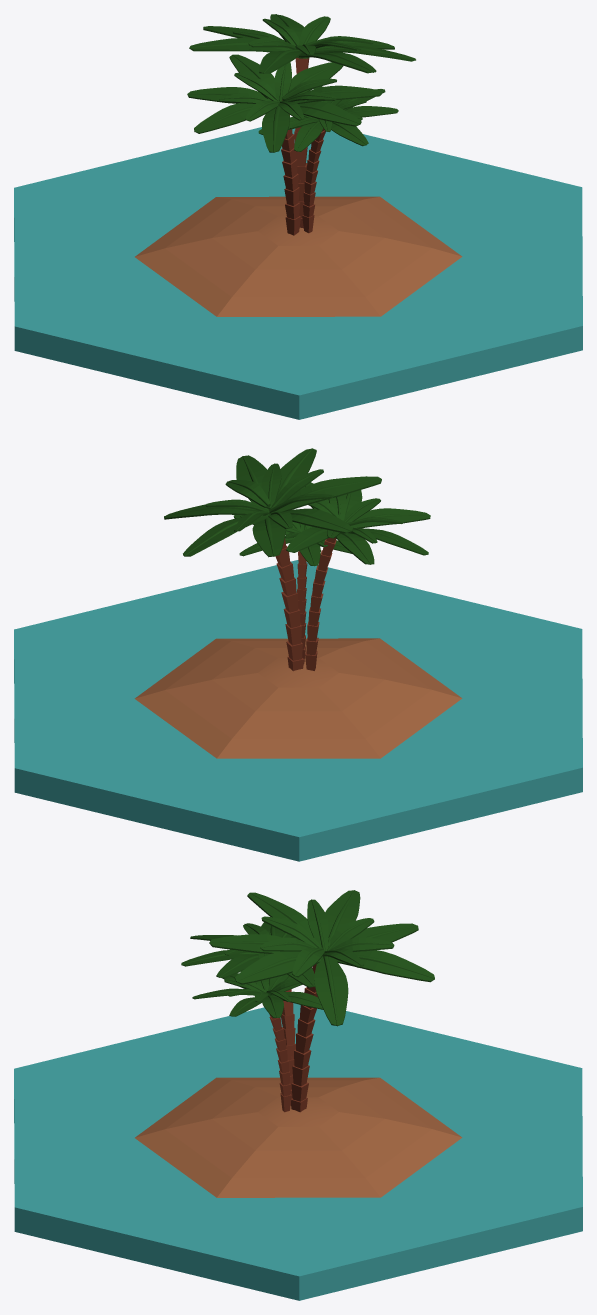
The model's file is Planet_Island_Hexagon.fbx.
The picture shows the model from 3 angles, top to bottom: view 1: azimuth 30°, elevation 25°; view 2: azimuth 150°, elevation 25°; view 3: azimuth 270°, elevation 25°; orthographic projection.
Visible parts, largest first — view 1: polySurface7, pCube85, pCube88, pCube69, pCube89, pCube96, pCube90, pCube70, pCube87, pCube86, pCube97, pCube52 (+2 smaller); view 2: polySurface7, pCube97, pCube69, pCube73, pCube95, pCube85, pCube70, pCube71, pCube52, pCube87, pCube53, pCube86 (+3 smaller); view 3: polySurface7, pCube71, pCube95, pCube52, pCube69, pCube70, pCube97, pCube72, pCube73, pCube60, pCube75, pCube57 (+3 smaller).
Part boxes in pixels (left/top/right/bottom): polySurface7: left=14, top=127, right=582, bottom=419; pCube85: left=262, top=102, right=289, bottom=152; pCube88: left=194, top=103, right=254, bottom=133; pCube69: left=189, top=38, right=292, bottom=52; pCube89: left=298, top=101, right=361, bottom=126; pCube96: left=293, top=85, right=382, bottom=103; pCube90: left=288, top=62, right=343, bottom=94; pCube70: left=299, top=52, right=376, bottom=73; pCube87: left=187, top=87, right=265, bottom=103; pCube86: left=229, top=54, right=275, bottom=99; pCube97: left=259, top=49, right=303, bottom=73; pCube52: left=315, top=45, right=415, bottom=61; polySurface7: left=14, top=560, right=582, bottom=861; pCube97: left=269, top=476, right=381, bottom=511; pCube69: left=270, top=508, right=353, bottom=533; pCube73: left=252, top=517, right=285, bottom=557; pCube95: left=183, top=514, right=270, bottom=556; pCube85: left=351, top=508, right=430, bottom=528; pCube70: left=277, top=448, right=316, bottom=495; pCube71: left=164, top=504, right=259, bottom=519; pCube52: left=236, top=455, right=267, bottom=506; pCube87: left=335, top=533, right=374, bottom=564; pCube53: left=225, top=479, right=270, bottom=508; pCube86: left=286, top=527, right=328, bottom=552; polySurface7: left=14, top=1003, right=582, bottom=1300; pCube71: left=314, top=956, right=348, bottom=1026; pCube95: left=335, top=950, right=434, bottom=982; pCube52: left=234, top=951, right=322, bottom=984; pCube69: left=325, top=890, right=360, bottom=947; pCube70: left=209, top=934, right=282, bottom=953; pCube97: left=247, top=892, right=321, bottom=947; pCube72: left=307, top=899, right=328, bottom=950; pCube73: left=354, top=923, right=418, bottom=942; pCube60: left=261, top=916, right=320, bottom=947; pCube75: left=329, top=937, right=394, bottom=951; pCube57: left=328, top=918, right=374, bottom=950.
Size of the model in its own units: 6.28 by 2.61 by 5.45.
